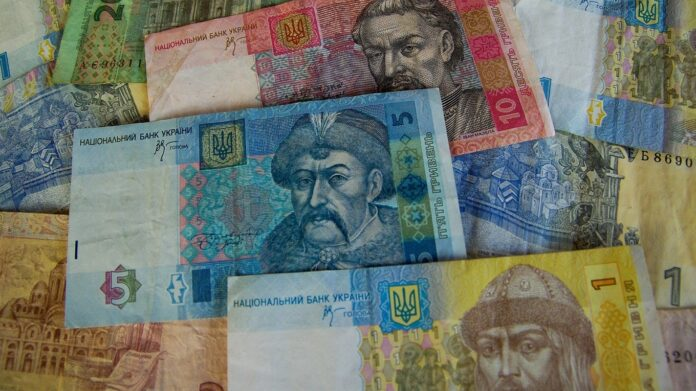bn_1: (230, 282, 652, 389), (474, 150, 659, 242), (541, 2, 694, 93), (0, 73, 82, 145)
bn_10: (144, 24, 476, 123)
bn_2: (0, 207, 67, 391)
bn_20: (57, 5, 148, 77)
bn_5: (72, 124, 397, 277)
